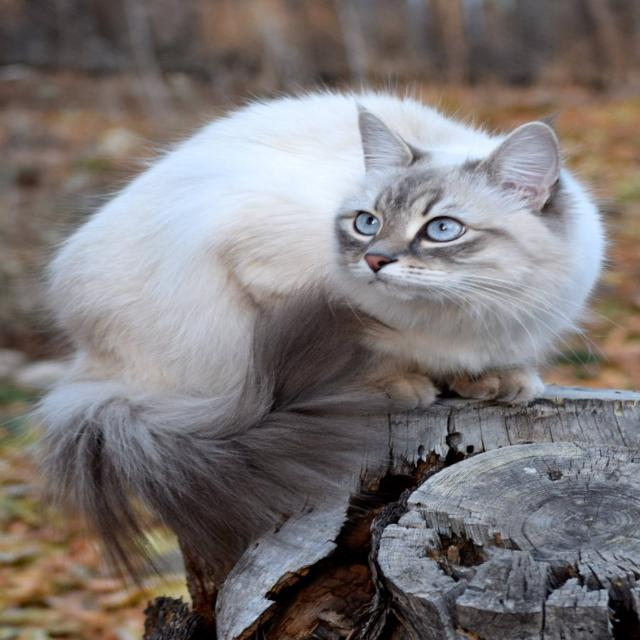Neva Masquerade: (15, 83, 612, 588)
